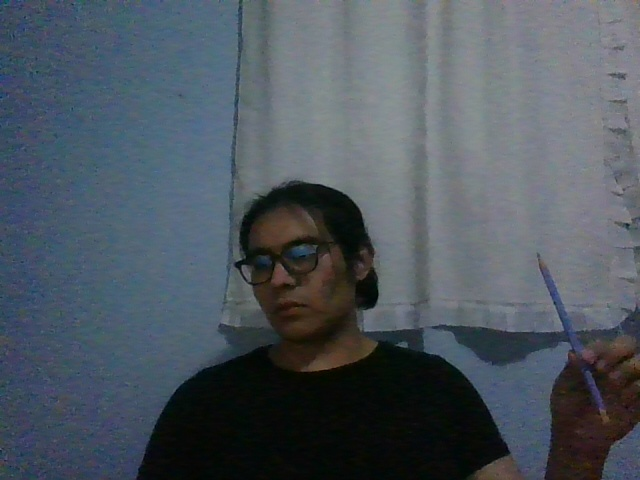lapiz: (536, 251, 612, 425)
